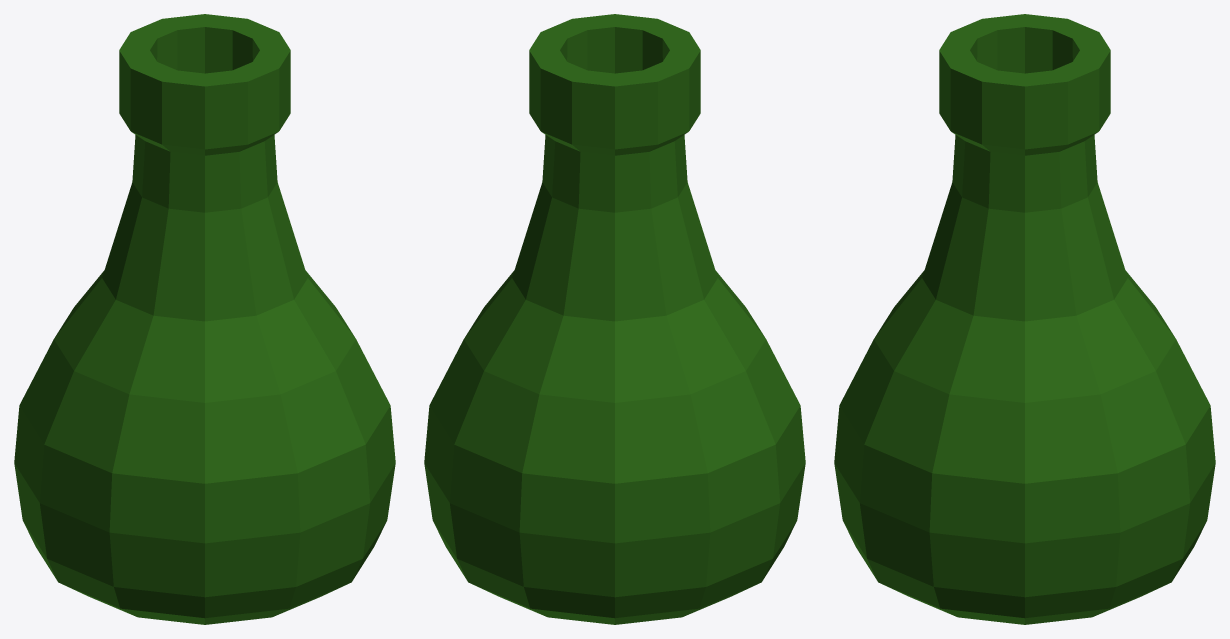
File: BottleOpenChubby.fbx
The picture shows the model from 3 angles, left to right: view 1: azimuth 30°, elevation 25°; view 2: azimuth 150°, elevation 25°; view 3: azimuth 270°, elevation 25°; orthographic projection.
Visible parts, largest first — view 1: BottleV2; view 2: BottleV2; view 3: BottleV2.
Part boxes in pixels (box(x1,y1,x2,y2)): BottleV2: box(14, 14, 395, 624); BottleV2: box(424, 14, 805, 624); BottleV2: box(834, 14, 1215, 624).
Size of the model in its own units: 23.21 by 34.77 by 23.21.
